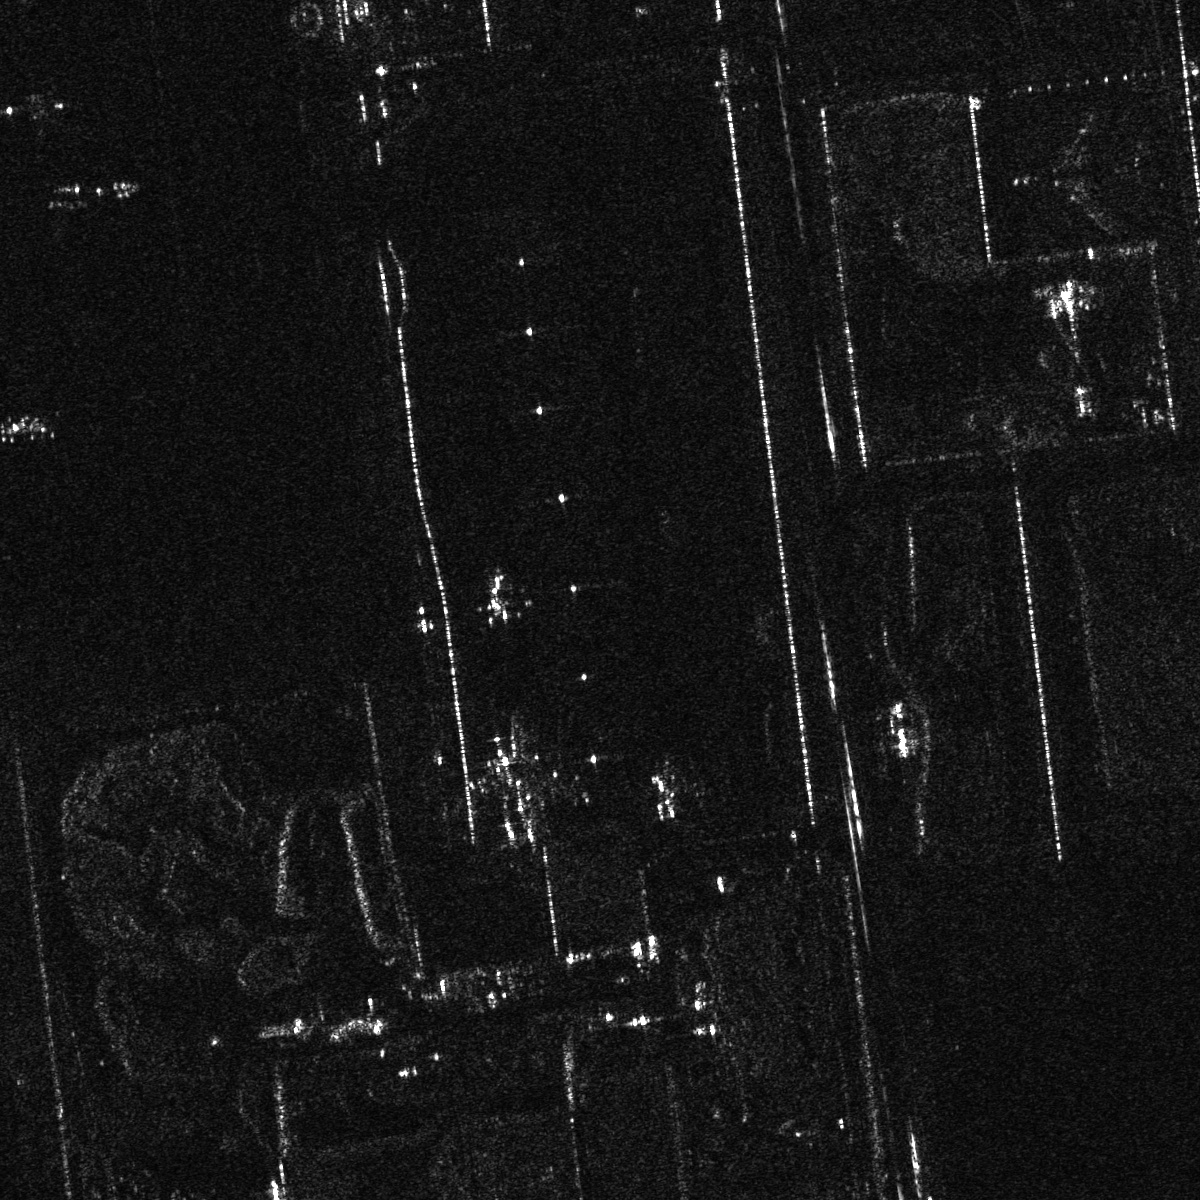A220: (642, 774, 686, 824)
other: (468, 729, 562, 840), (468, 573, 531, 629)
